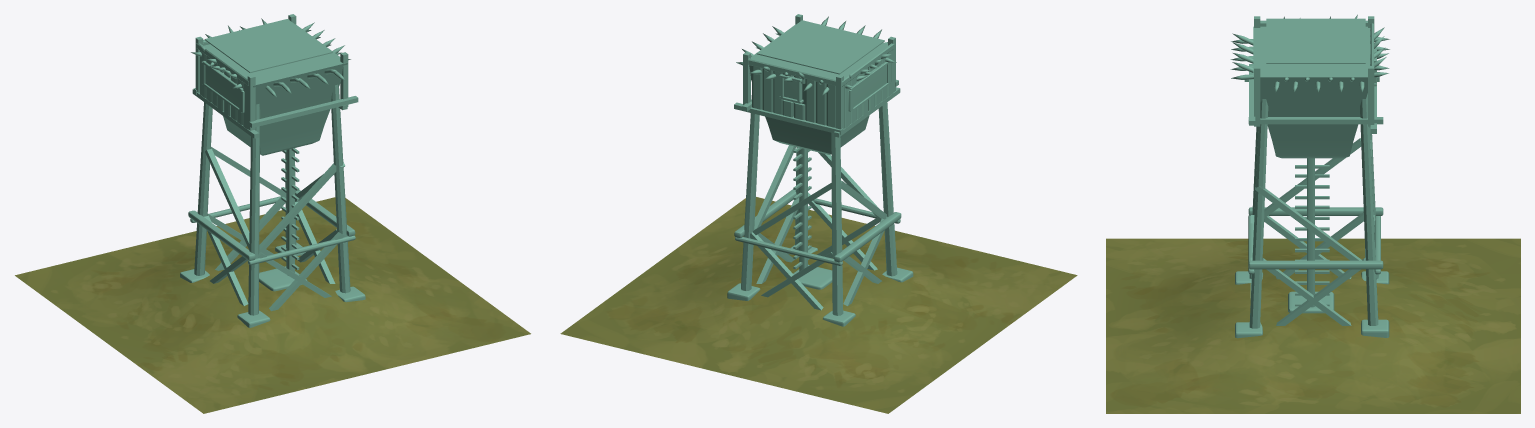
Rendered from New_Ballista_Tower.fbx.
The picture shows the model from 3 angles, left to right: view 1: azimuth 30°, elevation 25°; view 2: azimuth 150°, elevation 25°; view 3: azimuth 270°, elevation 25°; orthographic projection. The views are drawn at different scales.
Visible parts, largest first — view 1: pasted__pCylinder91; view 2: pasted__pCylinder91; view 3: pasted__pCylinder91.
Part boxes in pixels (x1,y1,x2,y2): pasted__pCylinder91: [15, 14, 530, 413]; pasted__pCylinder91: [560, 14, 1077, 413]; pasted__pCylinder91: [1106, 14, 1520, 413].
Size of the model in its own units: 1 by 0.8159 by 1.
